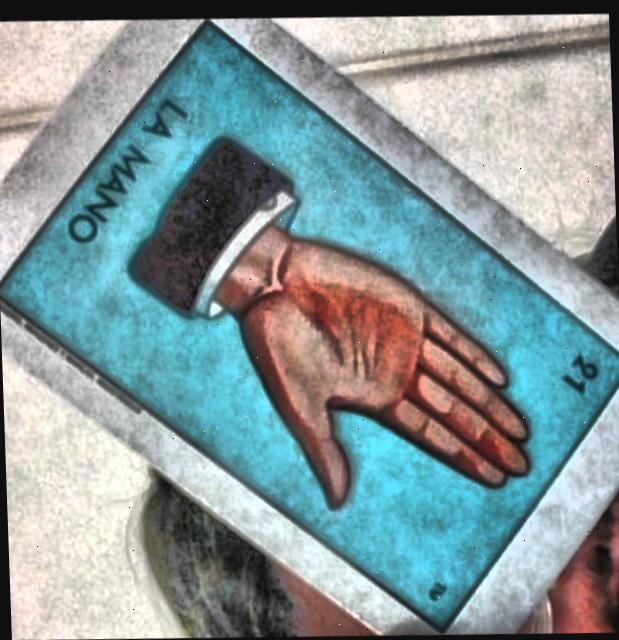La Mano: (0, 19, 619, 628)
